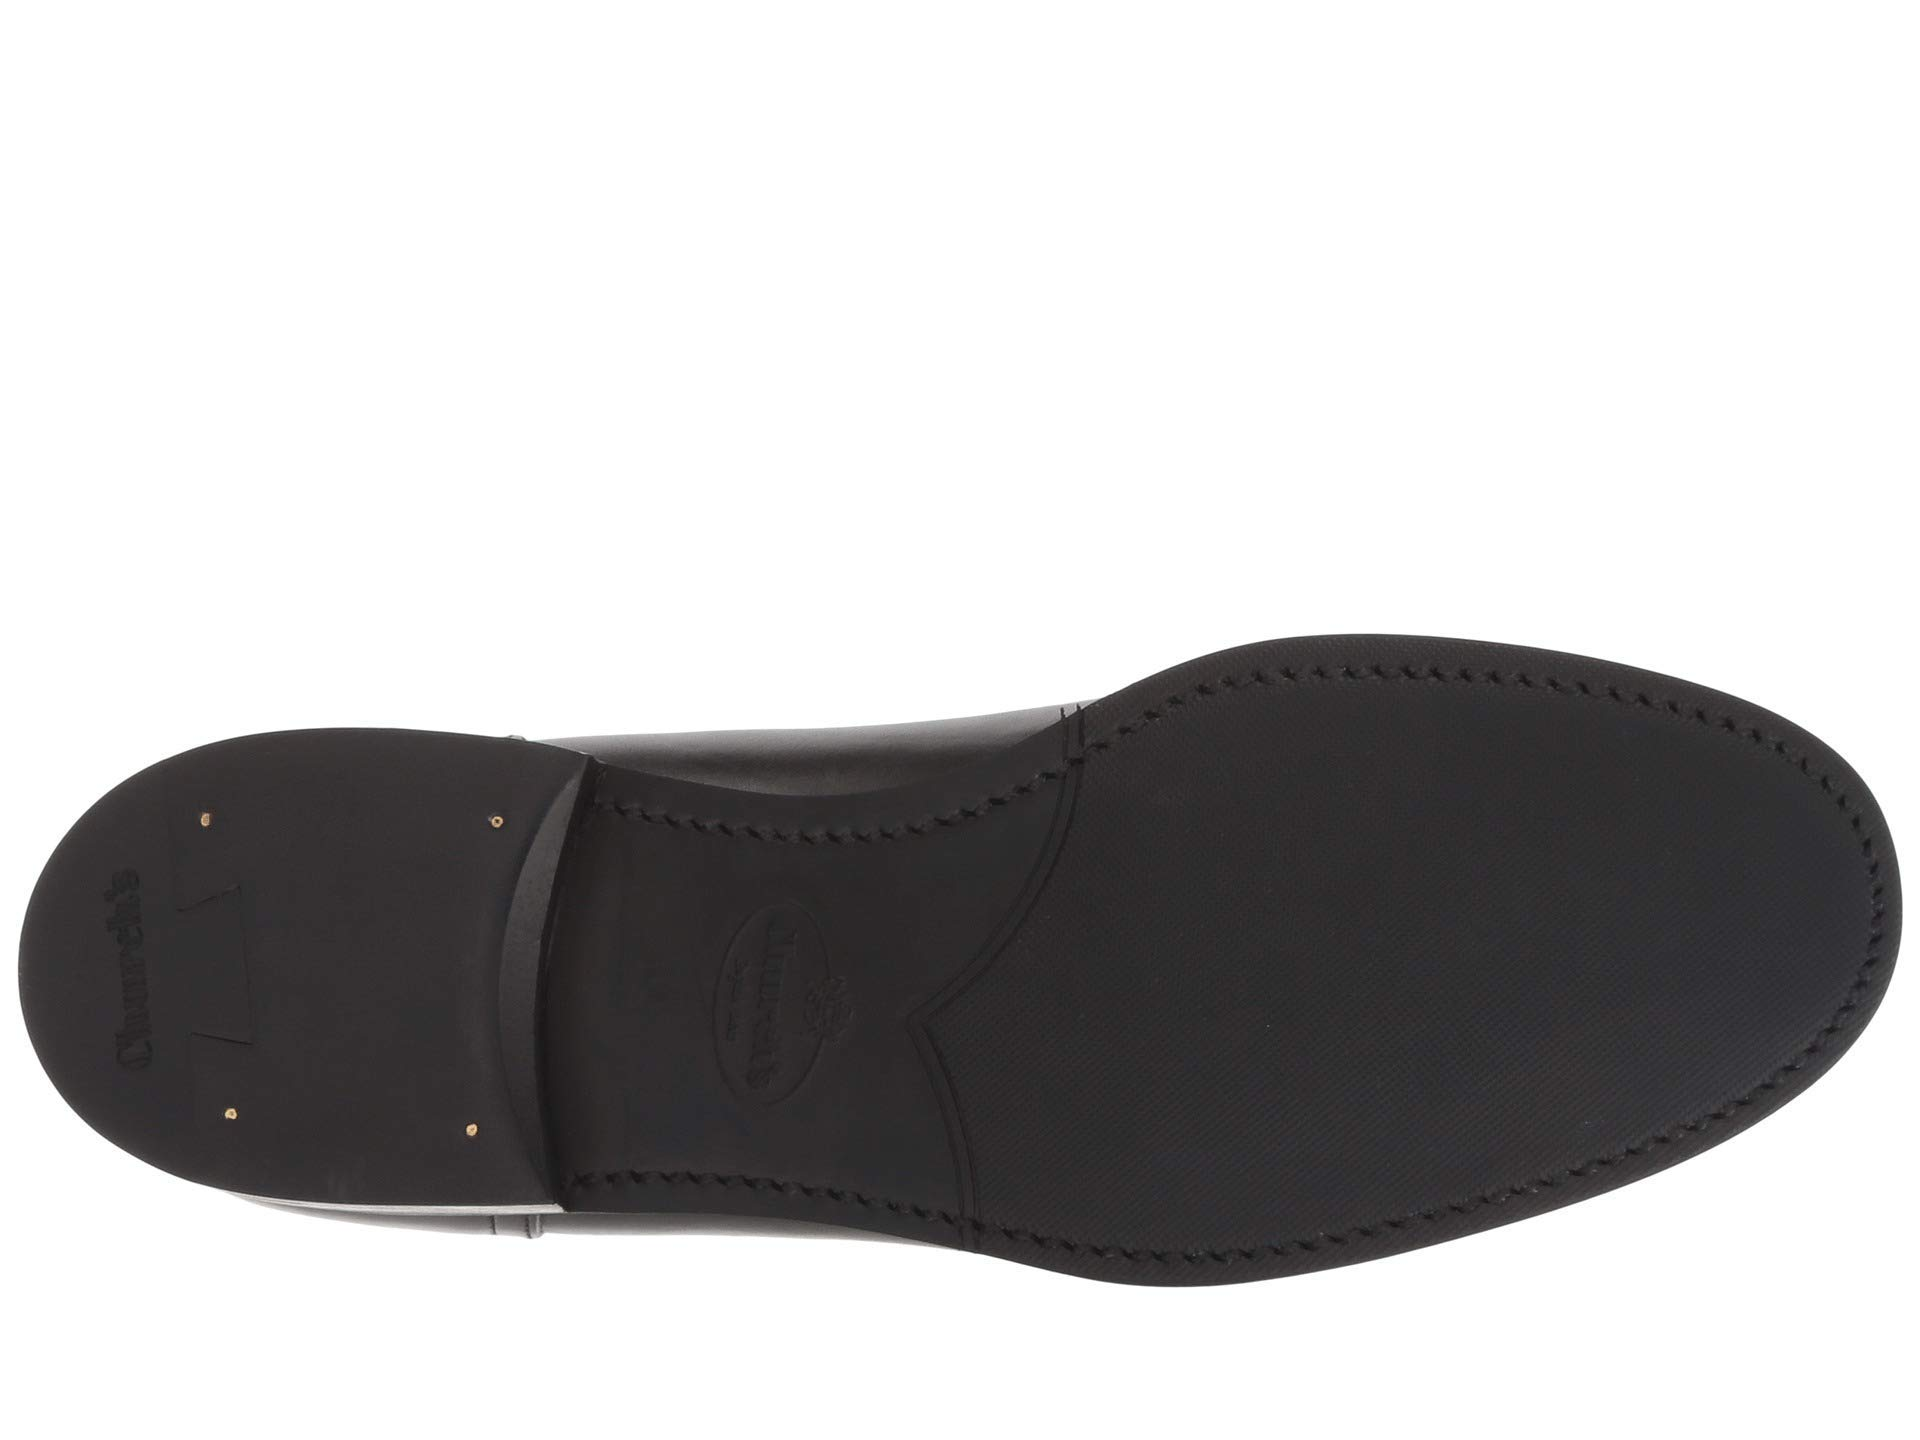circle: (686, 856, 871, 1141), (469, 791, 517, 849)
other: (686, 856, 871, 1141)
quad: (180, 877, 296, 1075)
text: (686, 856, 871, 1141), (60, 849, 172, 1088)
